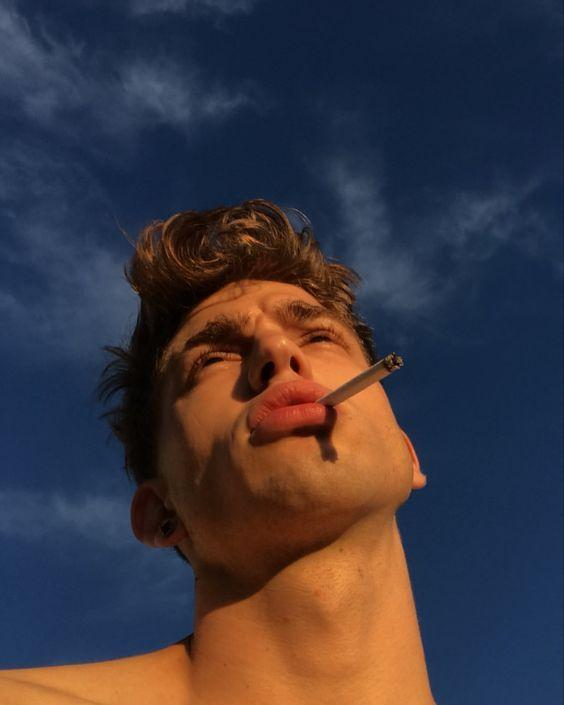cigarette: (316, 352, 405, 408)
